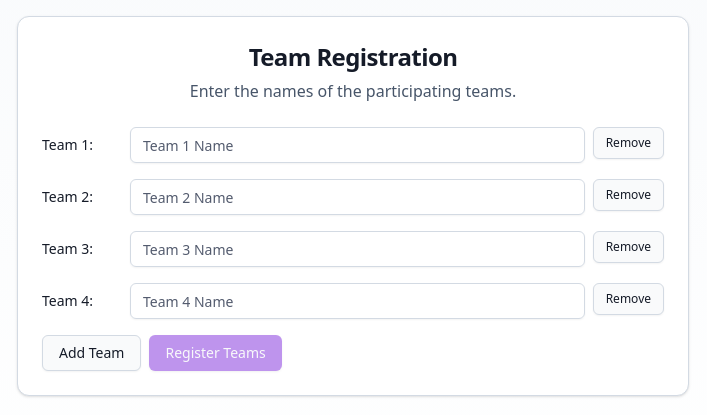
Test case: TeamRegistration › prevents removing when only 2 teams remain
Note: Remove one team
Step 1. Click the 1st button "Remove" → (628, 143), box [593,127,664,159]
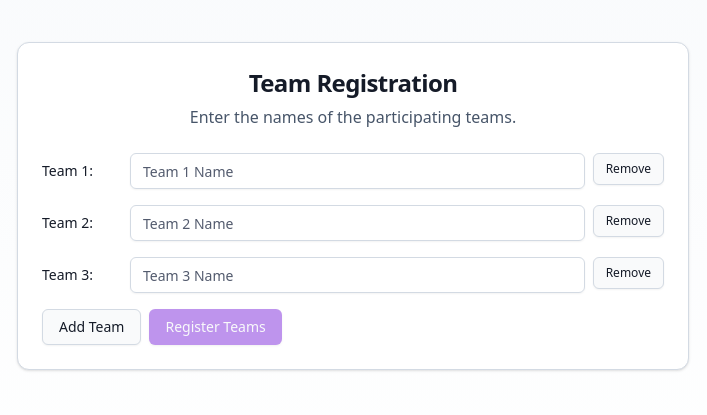
Expected: the text "Team 4:" is gone
